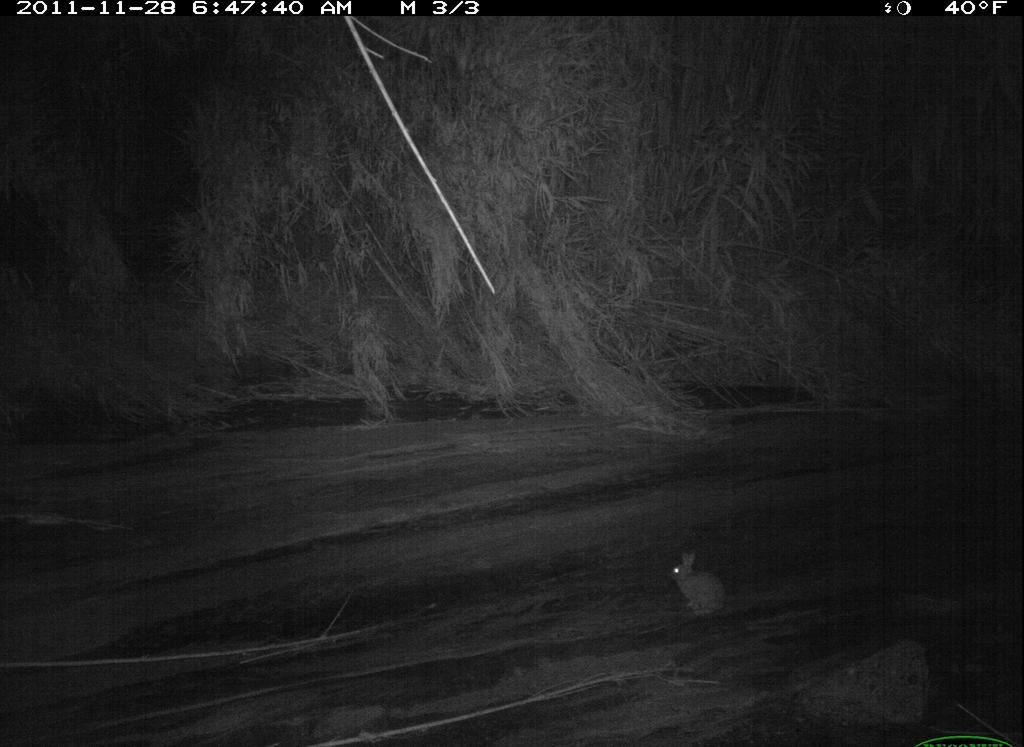rabbit: (662, 546, 734, 629)
